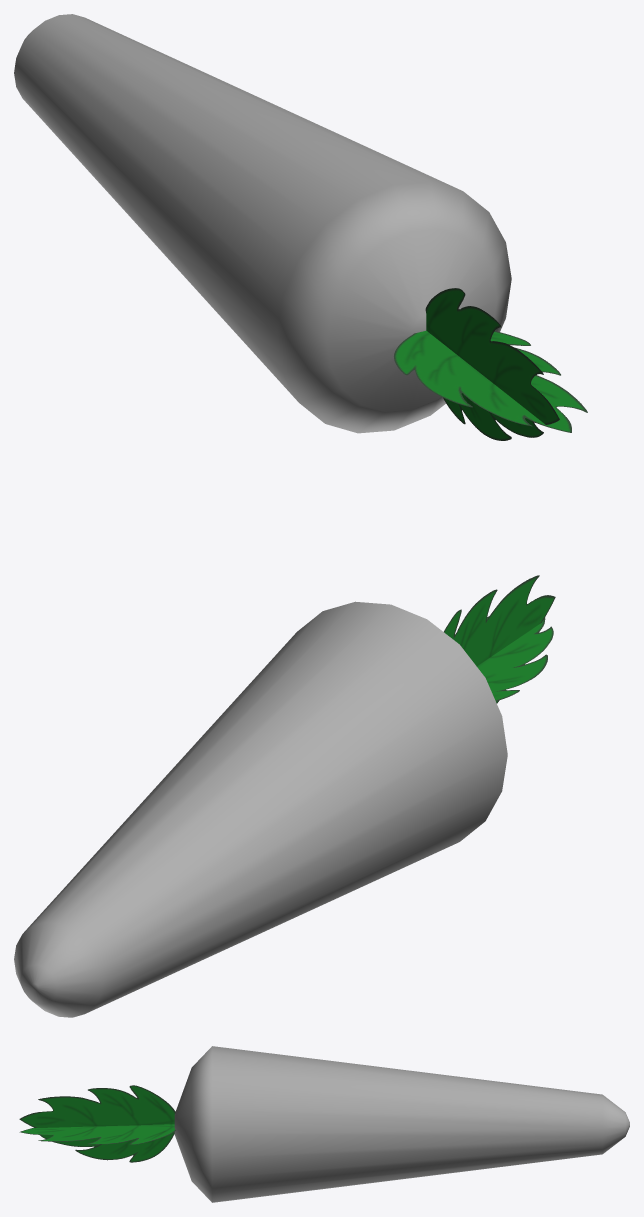
Rendered from CarrotBullet_Model.fbx.
The picture shows the model from 3 angles, top to bottom: view 1: azimuth 30°, elevation 25°; view 2: azimuth 150°, elevation 25°; view 3: azimuth 270°, elevation 25°; orthographic projection. The views are drawn at different scales.
Parts seen in each view (by area): view 1: CarrotBody1, CarrotLeaf1; view 2: CarrotBody1, CarrotLeaf1; view 3: CarrotBody1, CarrotLeaf1.
Part boxes in pixels (x1,y1,x2,y2): CarrotBody1: (14, 14, 511, 433); CarrotLeaf1: (394, 288, 587, 440); CarrotBody1: (14, 601, 507, 1017); CarrotLeaf1: (444, 575, 555, 703); CarrotBody1: (174, 1046, 629, 1202); CarrotLeaf1: (19, 1085, 175, 1162).
Bounding box in the file's own units: 0.1223 × 0.1223 × 0.4769.
